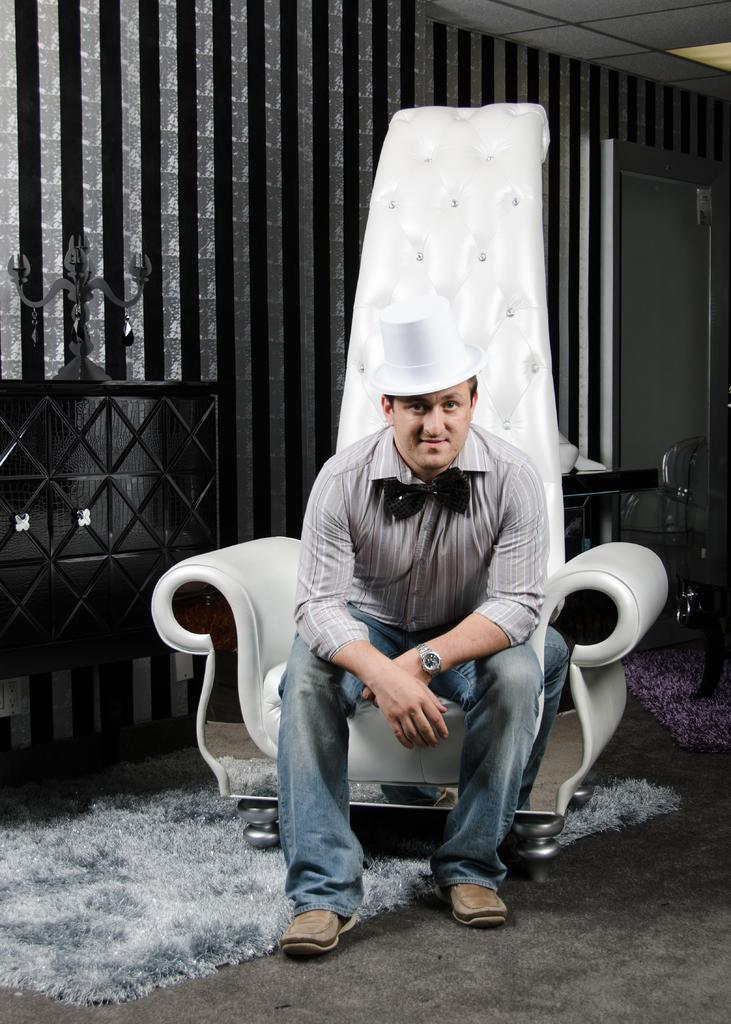Hat: (372, 294, 482, 400)
